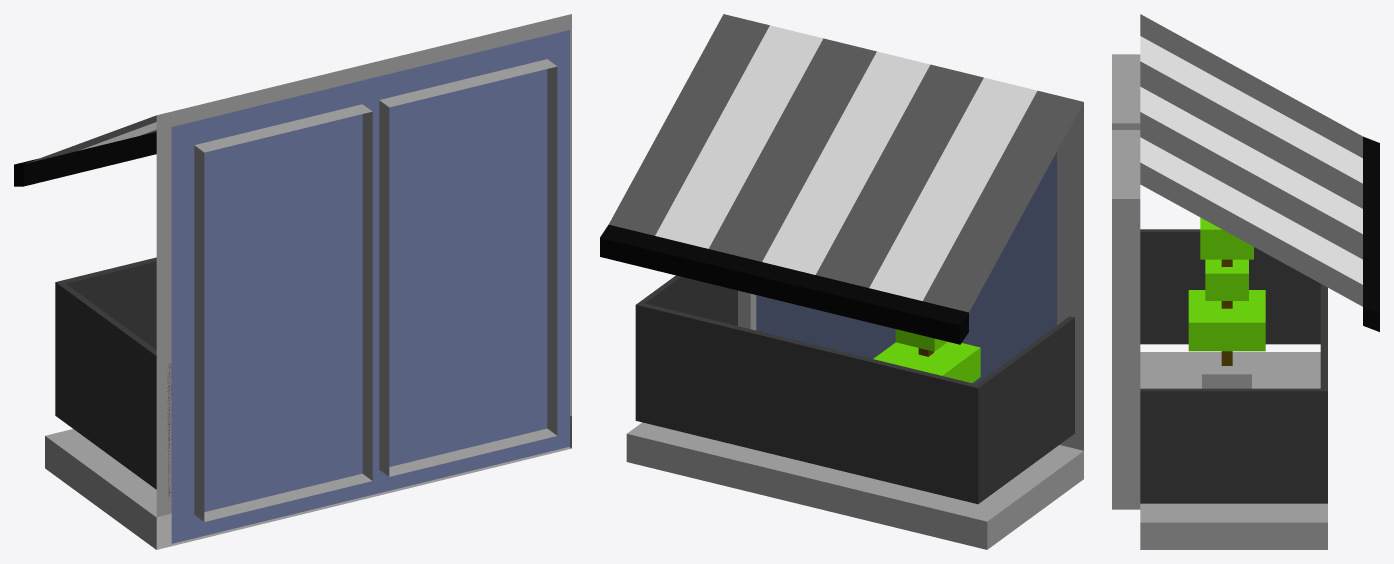
File: BalconySunshade.fbx
3 renders of one model, left to right at view 1: azimuth 30°, elevation 25°; view 2: azimuth 150°, elevation 25°; view 3: azimuth 270°, elevation 25°, orthographic. The views are drawn at different scales.
Visible parts, largest first — view 1: BalconyPlantSunshade; view 2: BalconyPlantSunshade; view 3: BalconyPlantSunshade.
Boxes of the visible parts, x1,y1,x2,y2 form: BalconyPlantSunshade: (14,14,571,549); BalconyPlantSunshade: (600,14,1083,549); BalconyPlantSunshade: (1112,14,1379,549).
Size of the model in its own units: 1 by 1 by 0.6637.
